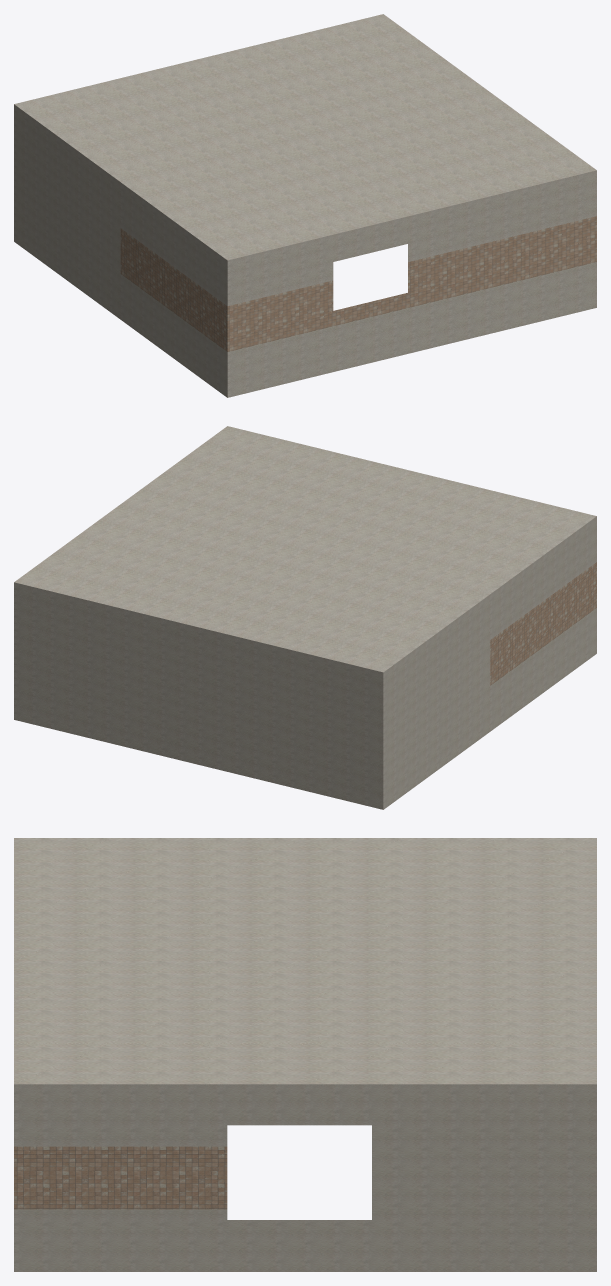
The model's file is kitchenRoom 1.FBX.
The picture shows the model from 3 angles, top to bottom: view 1: azimuth 30°, elevation 25°; view 2: azimuth 150°, elevation 25°; view 3: azimuth 270°, elevation 25°; orthographic projection. The views are drawn at different scales.
Visible parts, largest first — view 1: Box001; view 2: Box001; view 3: Box001.
Part boxes in pixels (bbox=[...]): Box001: bbox=[14, 14, 596, 397]; Box001: bbox=[14, 426, 596, 809]; Box001: bbox=[14, 838, 596, 1271].
Bounding box in the file's own units: 141 × 50 × 141.
